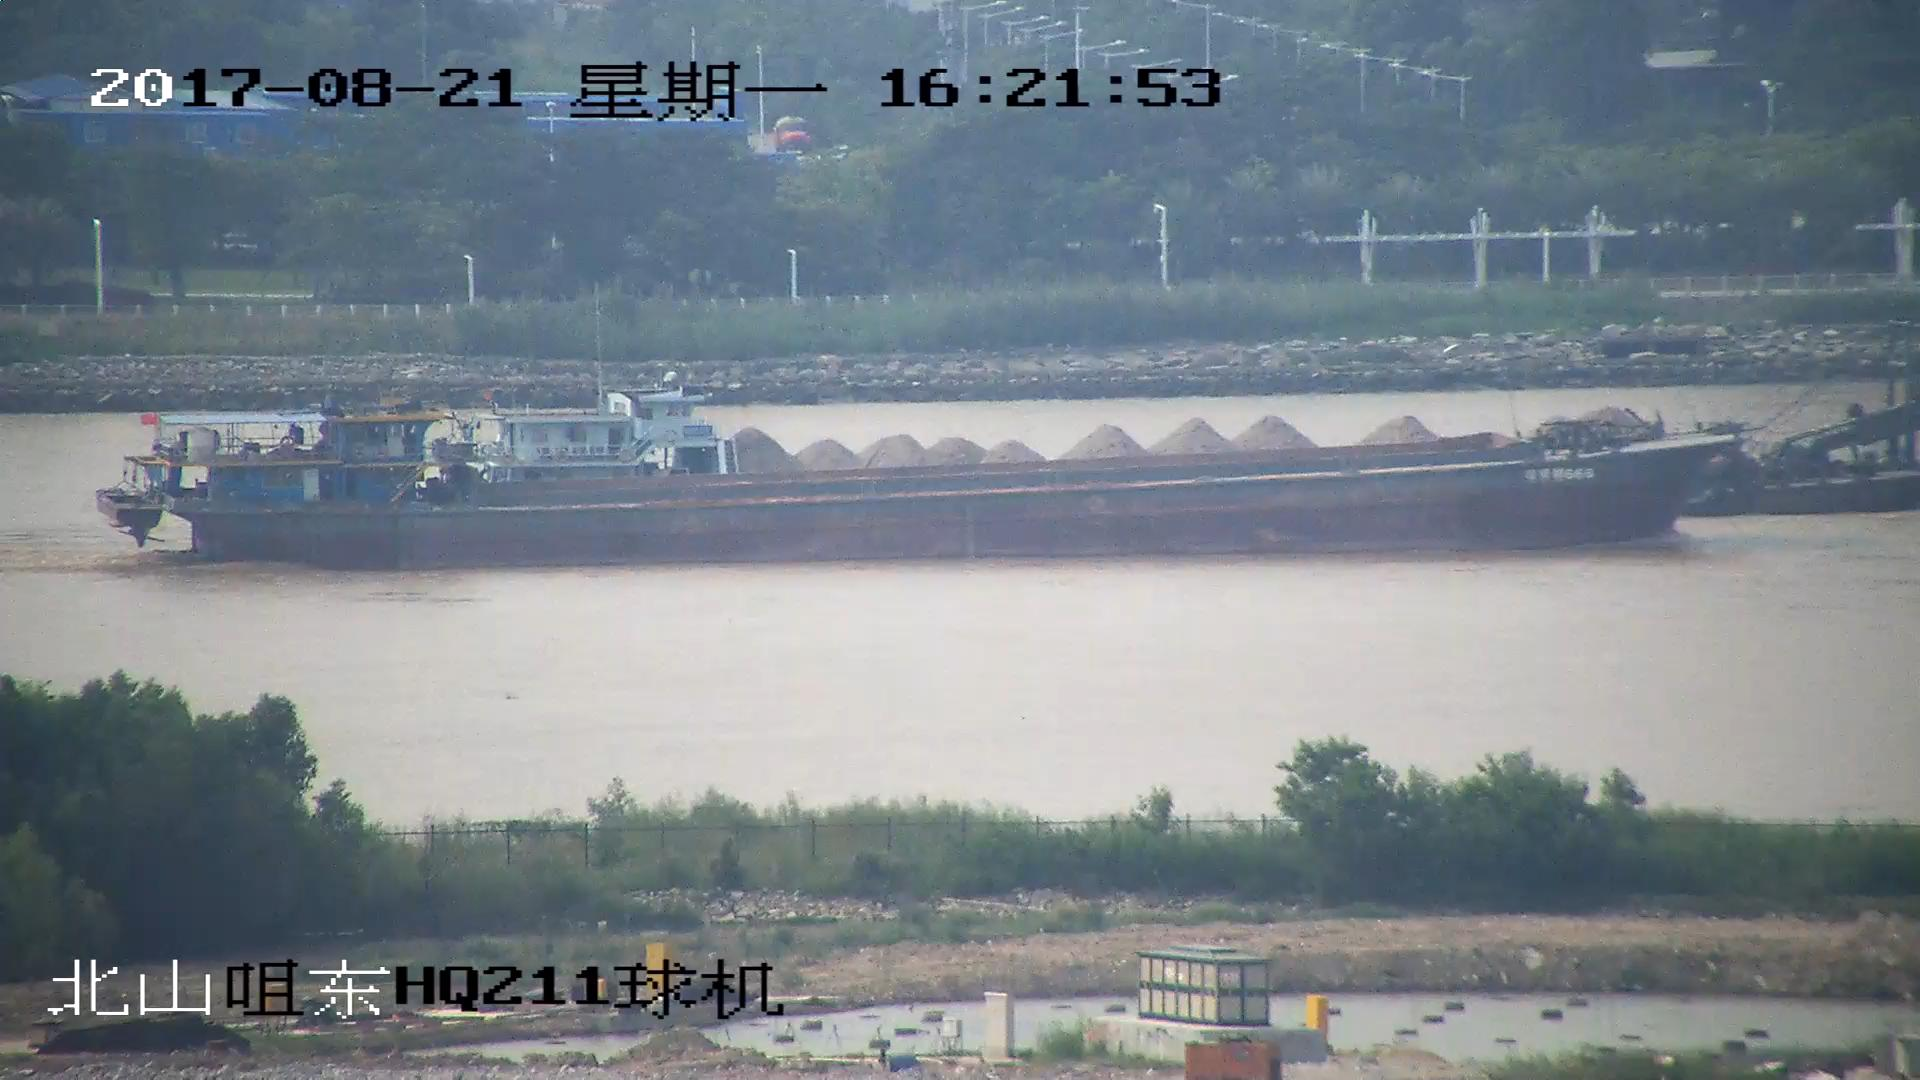bulk cargo carrier: (89, 403, 1738, 569)
ore carrier: (433, 388, 1920, 520)
